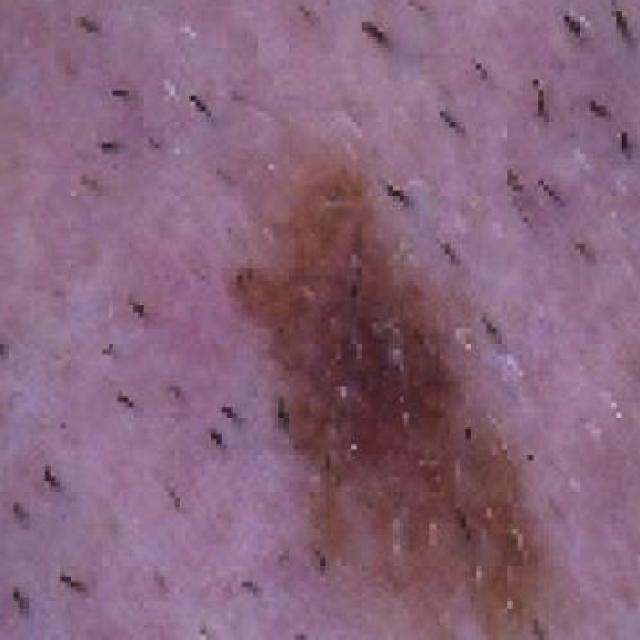MEL: (174, 50, 636, 640)
